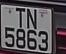3: (38, 29, 49, 53)
5: (4, 25, 16, 50)
6: (26, 28, 39, 52)
8: (16, 27, 27, 50)
N: (26, 7, 38, 31)
T: (14, 5, 26, 31)
